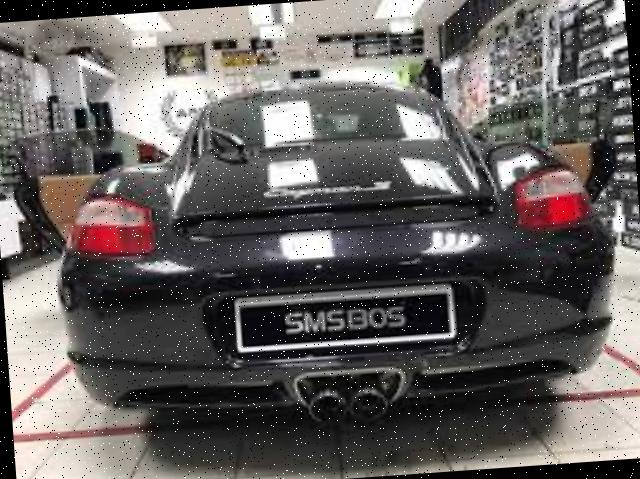License_Plate: (231, 269, 484, 368)
car: (15, 36, 625, 445)
